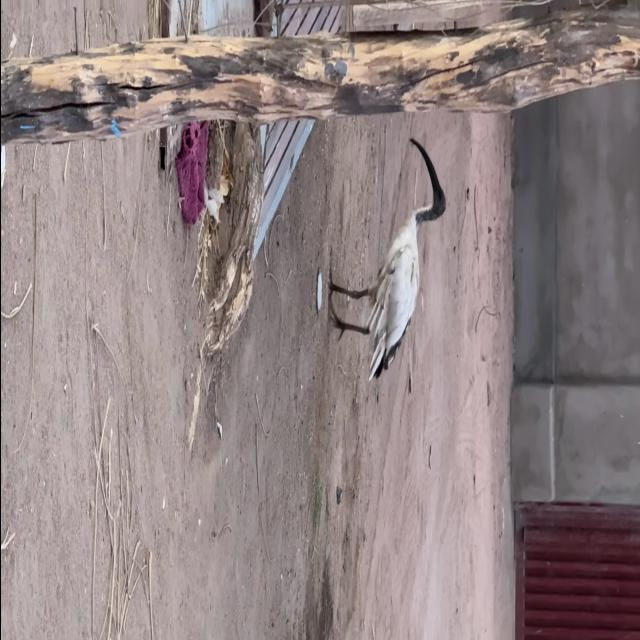Birds-Ibis: (325, 134, 449, 384)
